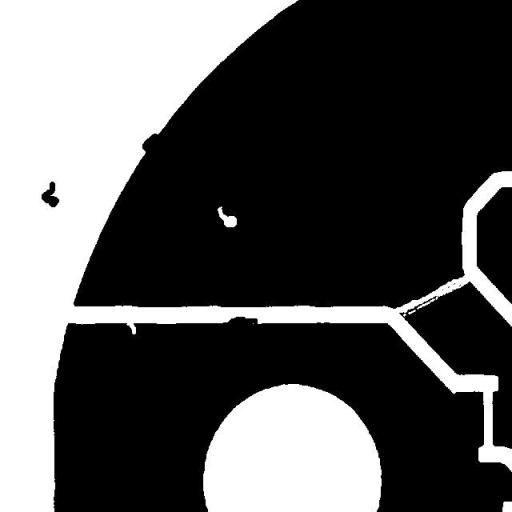copper: (34, 174, 66, 214)
mousebite: (107, 310, 143, 342)
open: (385, 266, 478, 324)
pin-hole: (210, 198, 244, 234)
spur: (214, 309, 266, 337), (134, 126, 165, 160)
